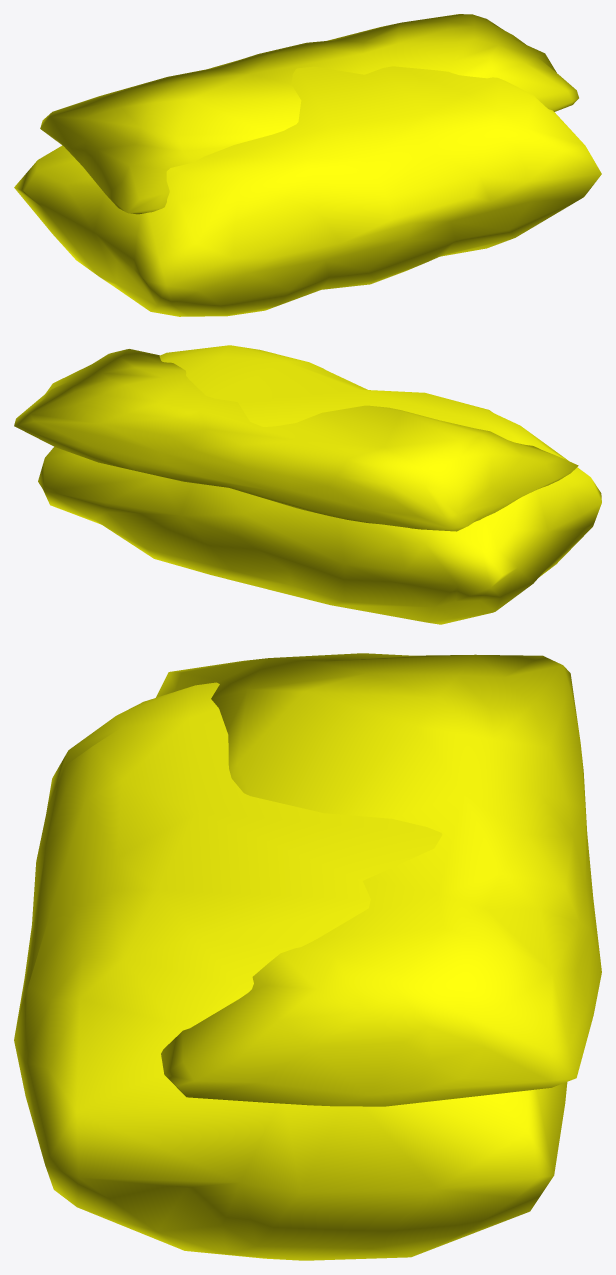
The model's file is sandbags.glb.
3 renders of one model, top to bottom at view 1: azimuth 30°, elevation 25°; view 2: azimuth 150°, elevation 25°; view 3: azimuth 270°, elevation 25°, orthographic. The views are drawn at different scales.
Parts seen in each view (by area): view 1: Sandsack_1, sandsack_2; view 2: Sandsack_1, sandsack_2; view 3: Sandsack_1, sandsack_2.
Boxes of the visible parts, bbox=[...] form: Sandsack_1: bbox=[14, 66, 601, 316]; sandsack_2: bbox=[40, 14, 578, 214]; Sandsack_1: bbox=[38, 345, 601, 624]; sandsack_2: bbox=[14, 349, 578, 531]; Sandsack_1: bbox=[14, 682, 567, 1260]; sandsack_2: bbox=[156, 653, 601, 1106].
Size of the model in its own units: 0.6209 by 0.1998 by 0.3448.
